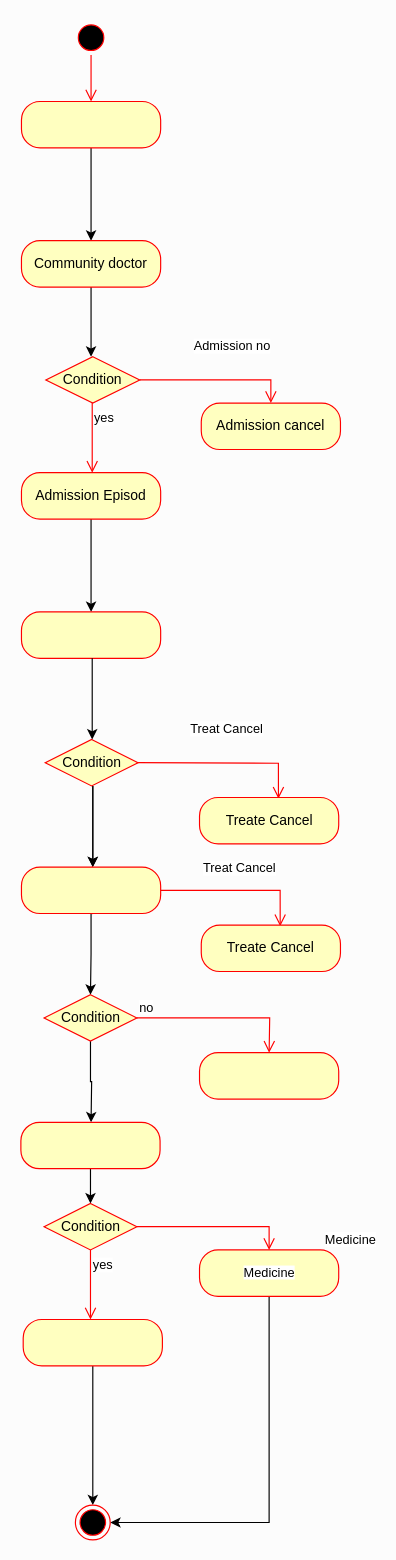
This 396x1560 diagram has some shape labels left out. Each missing label, with the centre of its shape:
"Digonise" goes at (90,1145).
"DigoniseCancel" goes at (268,1075).
"Hospital Doctor" goes at (90,634).
"Patient" goes at (90,124).
"Surgary" goes at (92,1342).
"Treatement" goes at (90,889).
